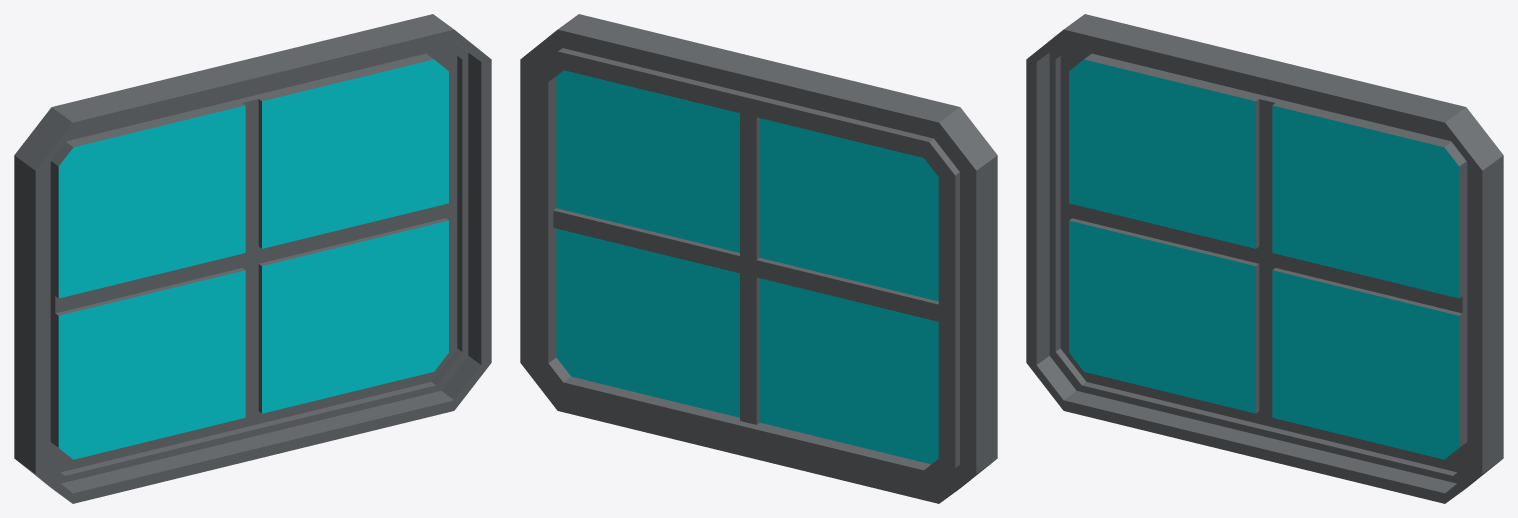
Rendered from LightGreyMetalDecorationSmallWindow1.fbx.
The picture shows the model from 3 angles, left to right: view 1: azimuth 30°, elevation 25°; view 2: azimuth 150°, elevation 25°; view 3: azimuth 330°, elevation 25°; orthographic projection.
Parts seen in each view (by area): view 1: LightGreyMetalDecorationSmallWindow3; view 2: LightGreyMetalDecorationSmallWindow3; view 3: LightGreyMetalDecorationSmallWindow3.
Part boxes in pixels (<box>): LightGreyMetalDecorationSmallWindow3: <box>14,14,491,503</box>; LightGreyMetalDecorationSmallWindow3: <box>520,14,997,503</box>; LightGreyMetalDecorationSmallWindow3: <box>1026,14,1503,503</box>.
Size of the model in its own units: 277 by 221 by 27.36.
